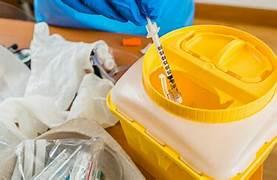Glove: (62, 0, 163, 24)
Syringe: (146, 17, 182, 102)
